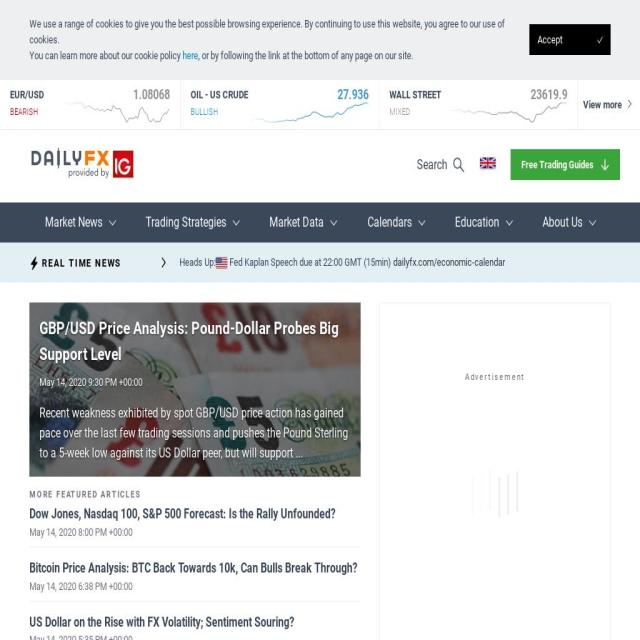button: (29, 303, 360, 477), (20, 242, 620, 282), (29, 556, 360, 602), (29, 503, 360, 548), (180, 80, 380, 130), (380, 80, 578, 130), (29, 611, 360, 640), (0, 80, 181, 130), (20, 139, 145, 189), (510, 148, 621, 180), (145, 206, 239, 239), (578, 80, 640, 130), (528, 24, 610, 55), (44, 206, 115, 239), (269, 206, 337, 239), (454, 206, 512, 239), (367, 206, 424, 239), (542, 206, 596, 239), (30, 488, 142, 502), (447, 139, 472, 189), (480, 154, 496, 174)
field: (400, 139, 448, 189)
image: (20, 139, 145, 189), (247, 102, 369, 122), (446, 102, 568, 122), (61, 102, 170, 122), (452, 156, 465, 173), (216, 254, 228, 272), (480, 158, 496, 168), (30, 256, 40, 270), (600, 158, 609, 172), (160, 258, 168, 268), (597, 36, 602, 43)
link: (39, 404, 350, 464), (39, 316, 350, 367), (39, 374, 350, 390), (183, 49, 198, 62)
text: (29, 17, 505, 46), (180, 213, 610, 229), (30, 559, 358, 576), (29, 505, 336, 522), (29, 613, 294, 630), (198, 49, 413, 62), (401, 371, 589, 385), (228, 255, 394, 268), (29, 49, 182, 62), (29, 523, 132, 540), (29, 578, 132, 594), (145, 212, 226, 232), (39, 254, 122, 271), (44, 212, 102, 232), (270, 212, 324, 232), (520, 157, 594, 171), (29, 631, 132, 640), (454, 212, 500, 232), (367, 212, 412, 232), (543, 212, 583, 232), (190, 86, 238, 102), (190, 103, 238, 119), (389, 86, 436, 102), (389, 103, 436, 119), (10, 86, 51, 102), (10, 103, 51, 119), (583, 96, 622, 112), (180, 255, 216, 268), (537, 33, 562, 46)
